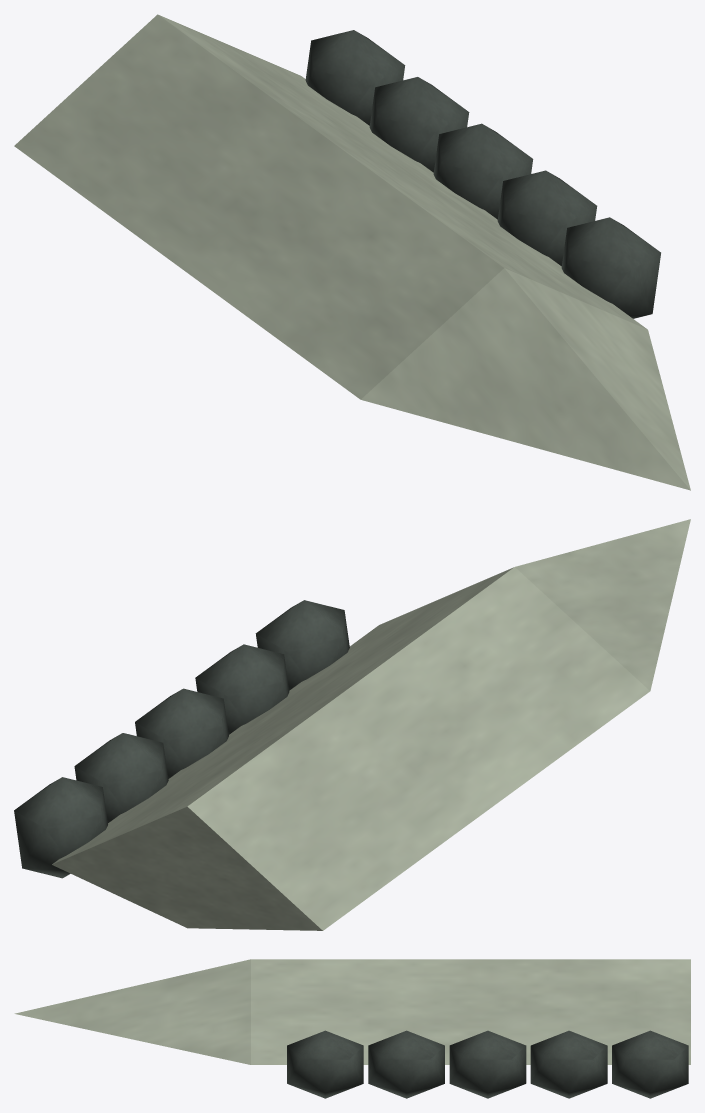
The model's file is item-SerratedEdgeComponent.fbx.
3 renders of one model, top to bottom at view 1: azimuth 30°, elevation 25°; view 2: azimuth 150°, elevation 25°; view 3: azimuth 270°, elevation 25°, orthographic. The views are drawn at different scales.
Parts seen in each view (by area): view 1: item-SerratedEdgeComponent__Geometry; view 2: item-SerratedEdgeComponent__Geometry; view 3: item-SerratedEdgeComponent__Geometry.
Boxes of the visible parts, x1,y1,x2,y2 form: item-SerratedEdgeComponent__Geometry: [14, 14, 690, 490]; item-SerratedEdgeComponent__Geometry: [14, 519, 690, 930]; item-SerratedEdgeComponent__Geometry: [14, 959, 690, 1098].
Bounding box in the file's own units: 0.1697 × 0.065 × 0.45.
1 material, 1 textured.
